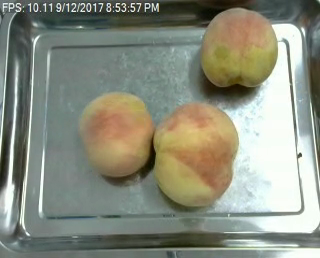Peach: (152, 100, 238, 209), (200, 5, 277, 90), (80, 92, 153, 177)
